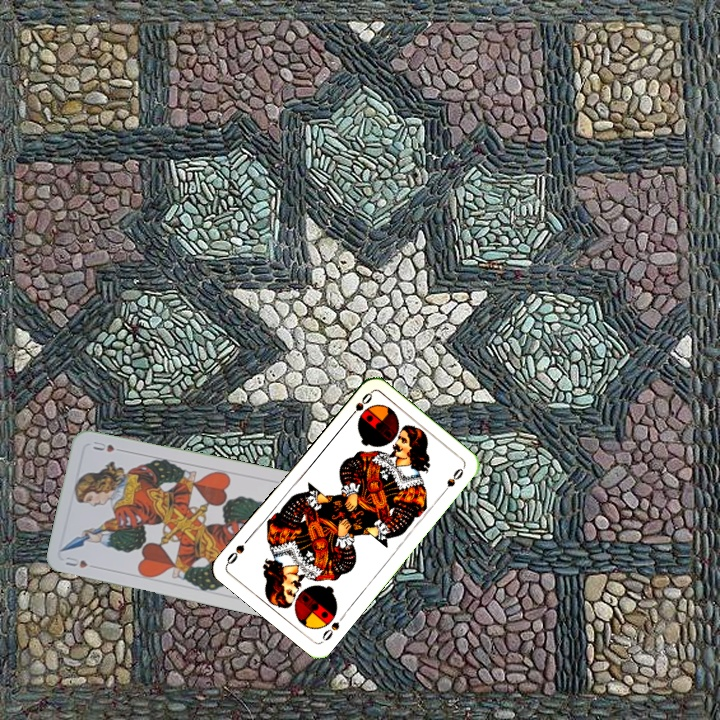HU: (62, 553, 90, 571)
SO: (344, 388, 375, 423), (318, 618, 342, 643)
